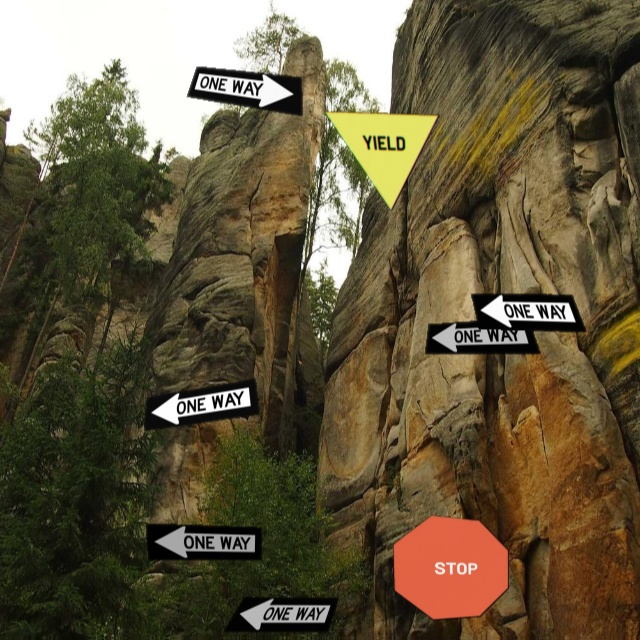ONE_WAY_ left: (143, 379, 260, 433), (470, 294, 587, 334), (145, 524, 262, 562), (424, 318, 541, 356), (222, 598, 339, 634)
ONE_WAY_ right: (186, 67, 303, 118)
STOP: (392, 516, 509, 622)
YIELD: (323, 112, 440, 213)
